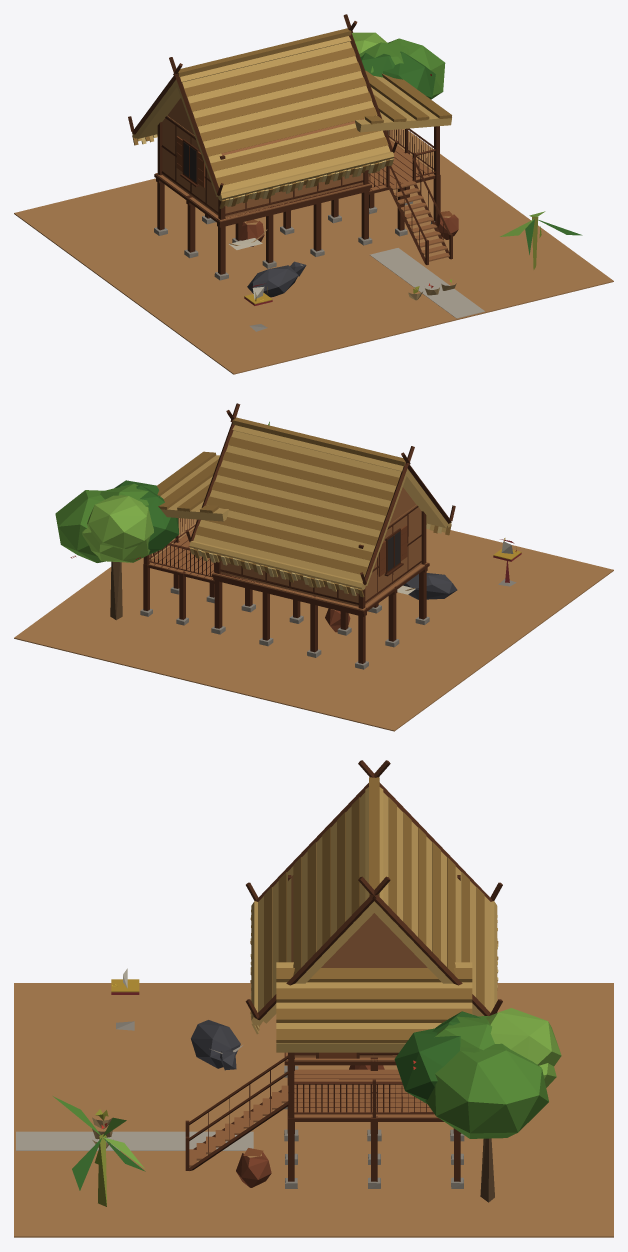
The model's file is home_2.glb.
3 views of the same model, one above another, from view 1: azimuth 30°, elevation 25°; view 2: azimuth 150°, elevation 25°; view 3: azimuth 270°, elevation 25° (orthographic). The views are drawn at different scales.
Parts seen in each view (by area): view 1: body; view 2: body; view 3: body.
Boxes of the visible parts, x1=… form: body: x1=14, y1=14, x2=613, y2=374; body: x1=14, y1=403, x2=613, y2=731; body: x1=14, y1=760, x2=613, y2=1237.
Size of the model in its own units: 15.9 by 8.04 by 15.9.
